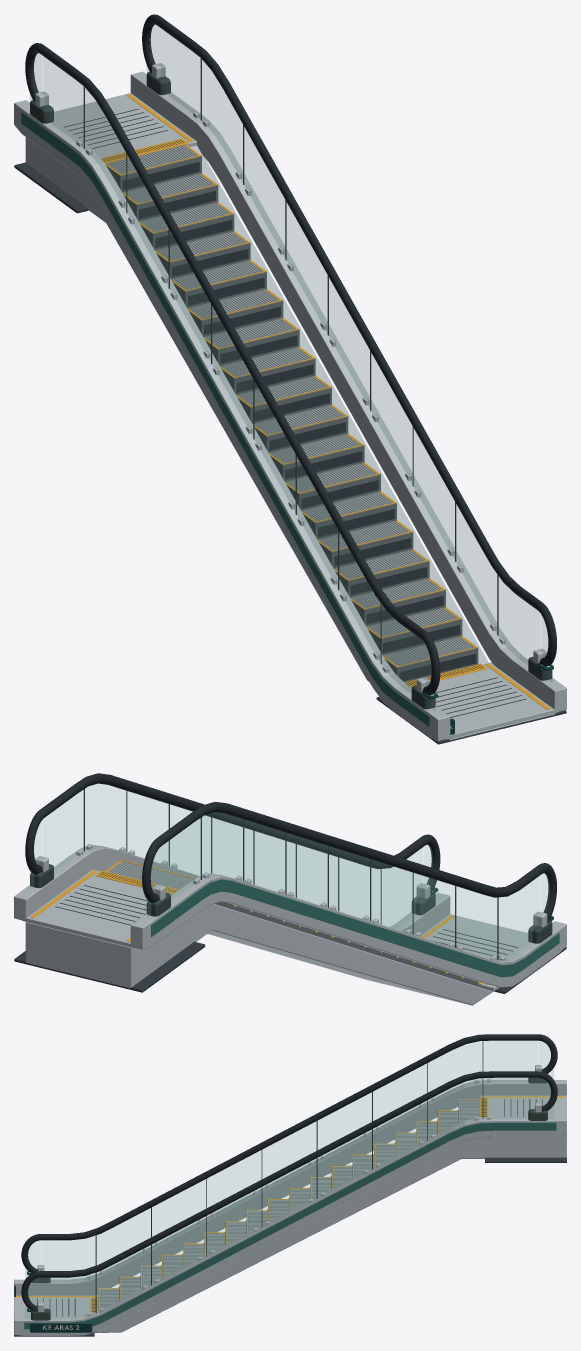
3 renders of one model, top to bottom at view 1: azimuth 30°, elevation 25°; view 2: azimuth 150°, elevation 25°; view 3: azimuth 270°, elevation 25°, orthographic. The views are drawn at different scales.
Visible parts, largest first — view 1: Serambi Court Escalator - Structure, Serambi Court Escalator - Tread and Landing, Serambi Court Escalator - Glazing; view 2: Serambi Court Escalator - Structure, Serambi Court Escalator - Glazing, Serambi Court Escalator - Tread and Landing; view 3: Serambi Court Escalator - Structure, Serambi Court Escalator - Glazing, Serambi Court Escalator - Tread and Landing, Serambi Court Escalator - Wayfinding.
Boxes of the visible parts, box(x1,y1,x2,y2) form: Serambi Court Escalator - Structure: box(14, 14, 566, 744); Serambi Court Escalator - Tread and Landing: box(54, 93, 558, 739); Serambi Court Escalator - Glazing: box(30, 25, 552, 710); Serambi Court Escalator - Structure: box(14, 773, 566, 1005); Serambi Court Escalator - Glazing: box(30, 784, 552, 959); Serambi Court Escalator - Tread and Landing: box(22, 859, 528, 991); Serambi Court Escalator - Structure: box(14, 1034, 566, 1336); Serambi Court Escalator - Glazing: box(25, 1041, 553, 1318); Serambi Court Escalator - Tread and Landing: box(14, 1095, 566, 1332); Serambi Court Escalator - Wayfinding: box(14, 1271, 92, 1332).
Bounding box in the file's own units: 1.62 × 4.75 × 9.04.
